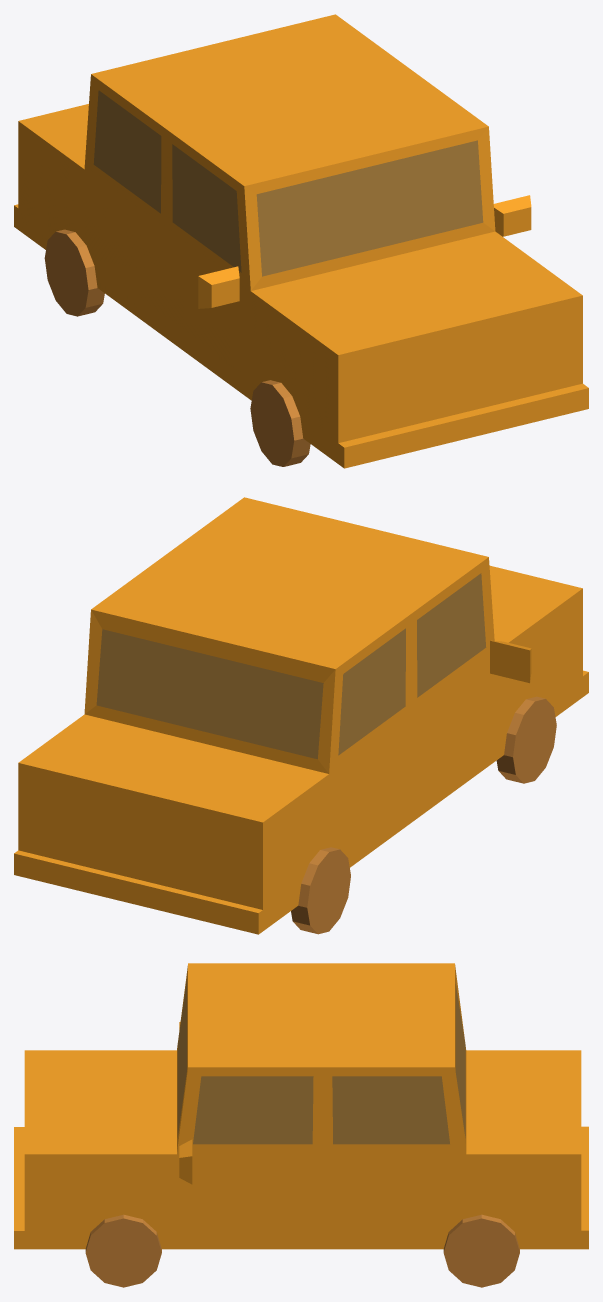
The model's file is SM_Icon_Car_01.fbx.
3 renders of one model, top to bottom at view 1: azimuth 30°, elevation 25°; view 2: azimuth 150°, elevation 25°; view 3: azimuth 270°, elevation 25°, orthographic. The views are drawn at different scales.
Visible parts, largest first — view 1: SM_Icon_Car_01; view 2: SM_Icon_Car_01; view 3: SM_Icon_Car_01.
Boxes of the visible parts, x1,y1,x2,y2 form: SM_Icon_Car_01: (14, 14, 588, 468); SM_Icon_Car_01: (14, 497, 588, 934); SM_Icon_Car_01: (14, 963, 588, 1287).
Bounding box in the file's own units: 46.16 × 33.08 × 79.58.
